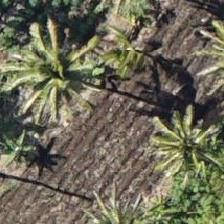coconut_tree: (11, 28, 101, 118), (134, 105, 223, 195), (78, 177, 168, 223)
